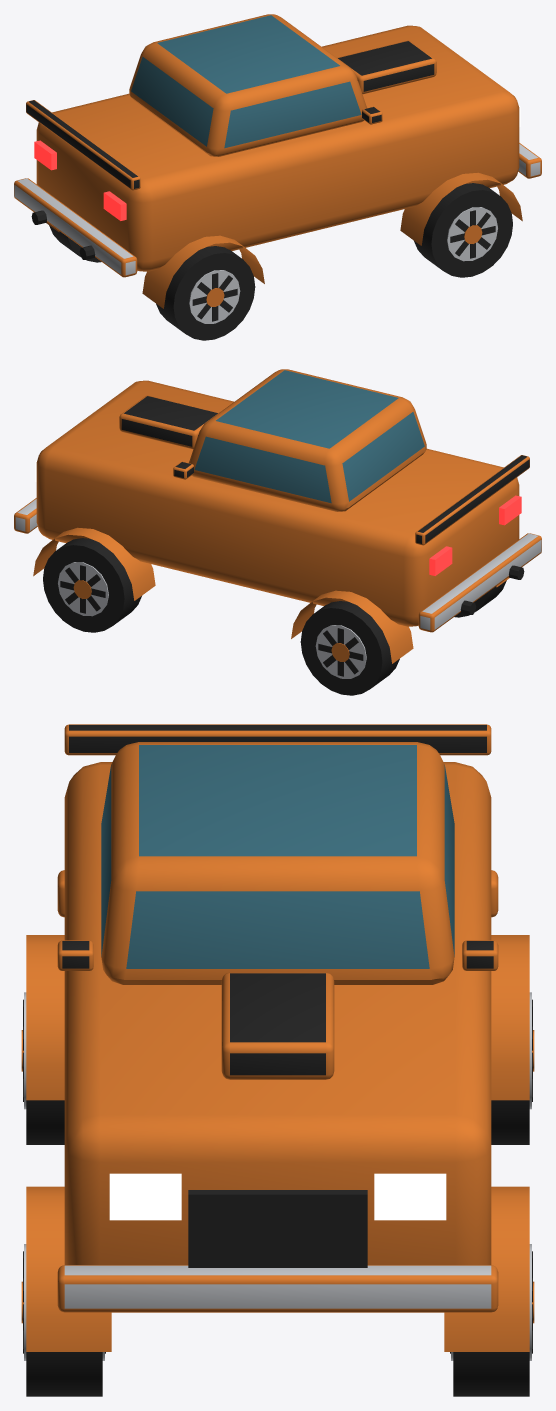
File: dust-devil.glb
3 views of the same model, one above another, from view 1: azimuth 30°, elevation 25°; view 2: azimuth 150°, elevation 25°; view 3: azimuth 270°, elevation 25° (orthographic). The views are drawn at different scales.
Visible parts, largest first — view 1: body, wheel_FR, wheel_RR; view 2: body, wheel_FL, wheel_RL; view 3: body, wheel_FL, wheel_FR, wheel_RL, wheel_RR.
Part boxes in pixels (x1,y1,x2,y2): body: [14, 14, 541, 308]; wheel_FR: [414, 183, 512, 277]; wheel_RR: [156, 246, 255, 340]; body: [14, 369, 541, 663]; wheel_FL: [43, 538, 141, 632]; wheel_RL: [300, 601, 399, 695]; body: [26, 724, 529, 1351]; wheel_FL: [450, 1244, 534, 1396]; wheel_FR: [21, 1244, 105, 1396]; wheel_RL: [491, 992, 534, 1144]; wheel_RR: [21, 992, 64, 1144].
Size of the model in its own units: 4.41 by 2.11 by 2.28.
